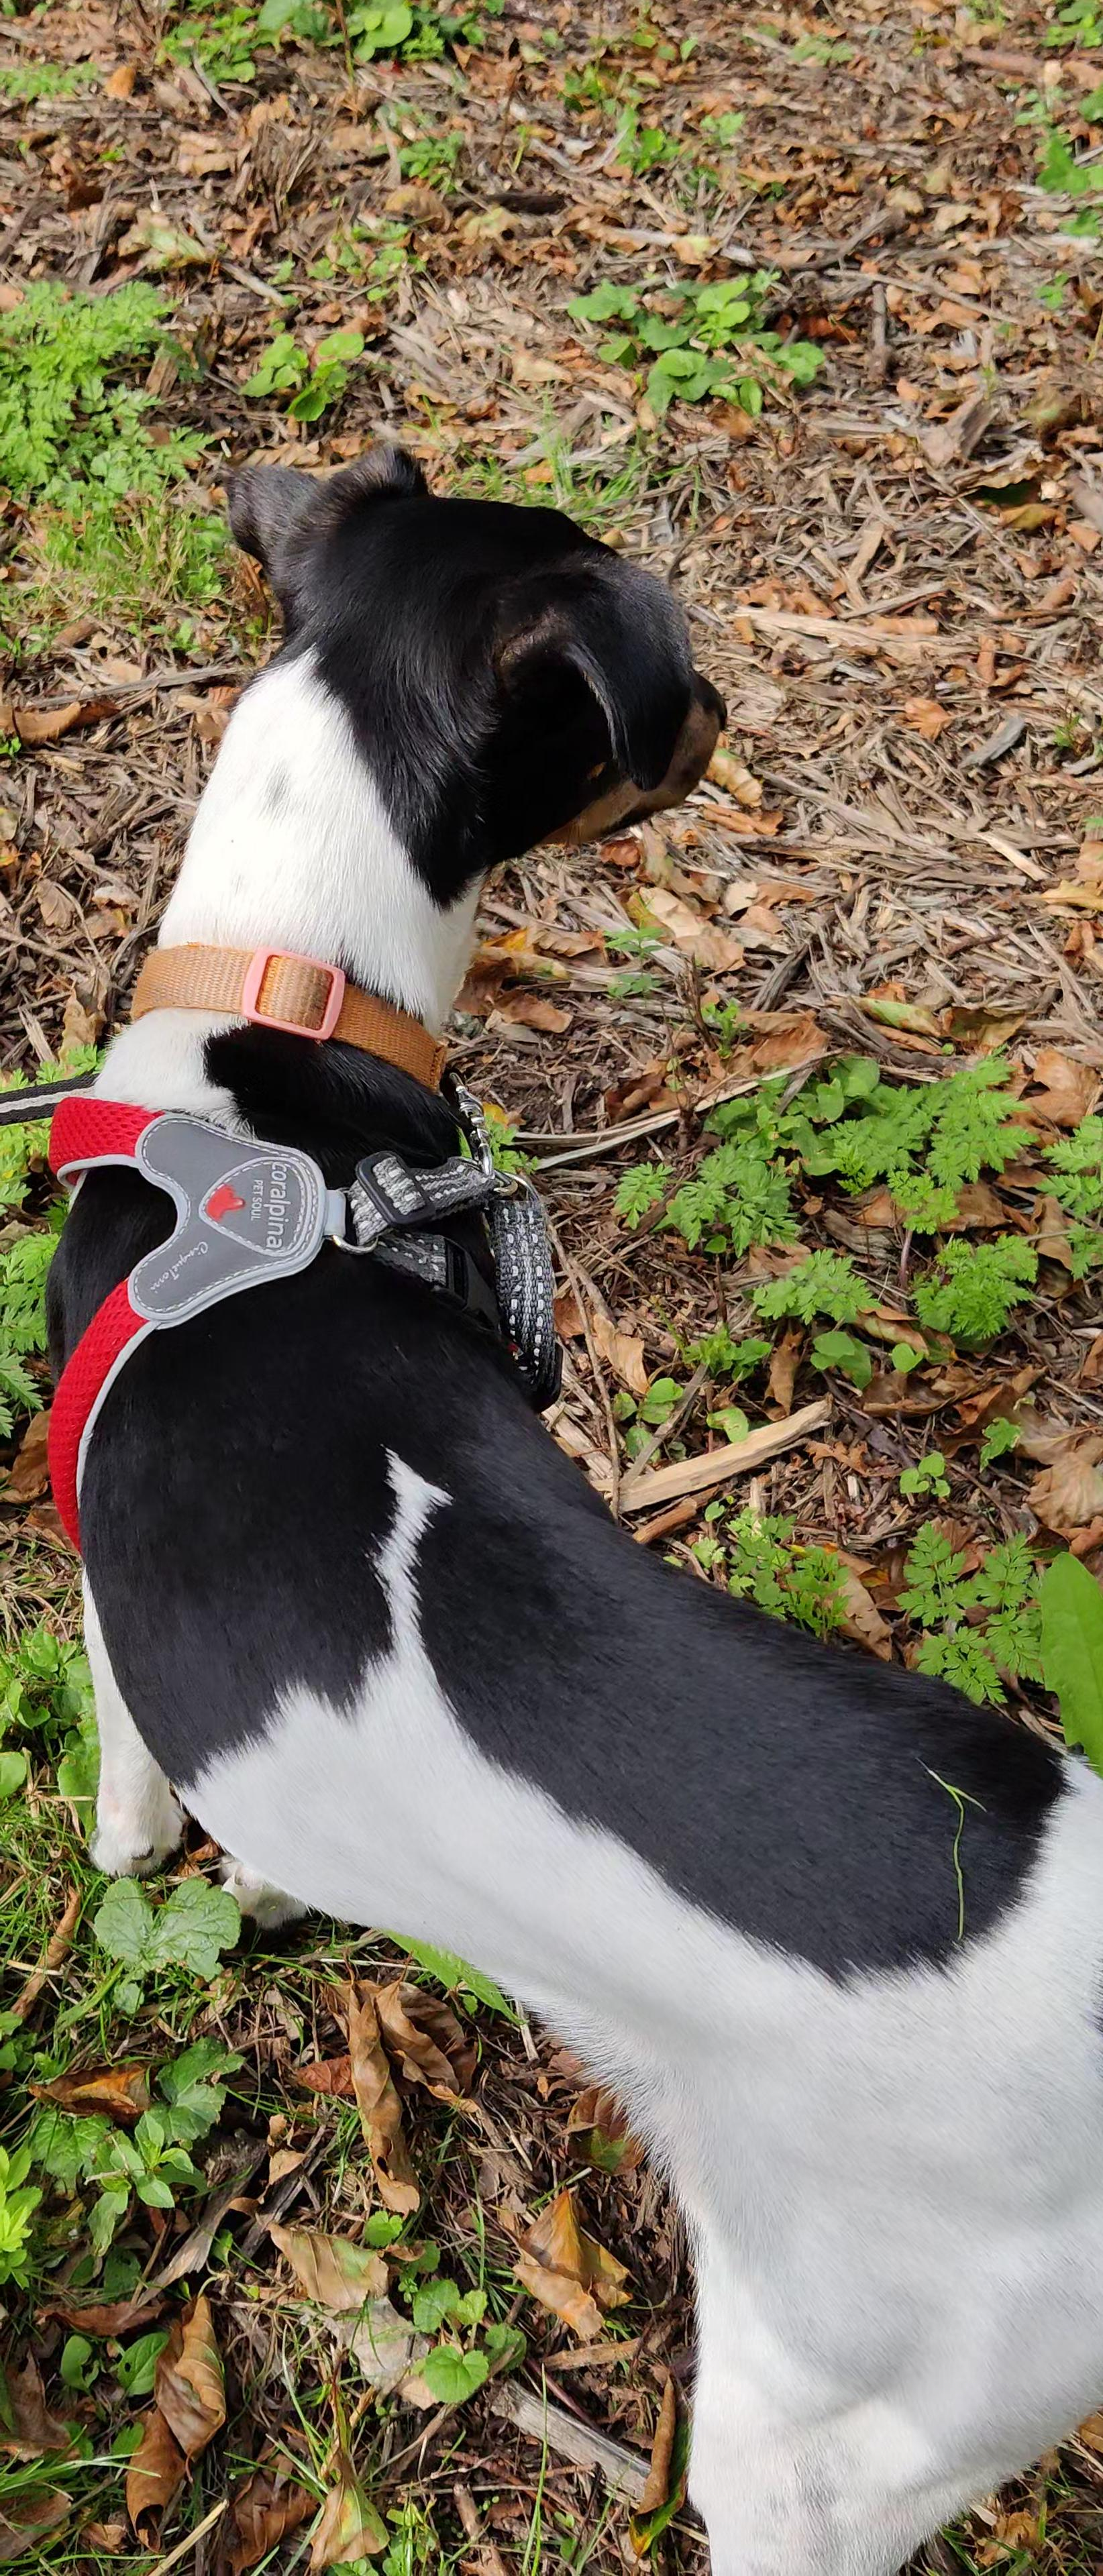Dog: (39, 435, 1103, 2576)
